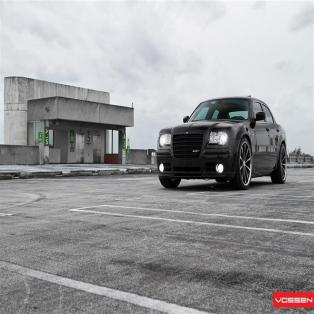Auto: (155, 94, 290, 188)
